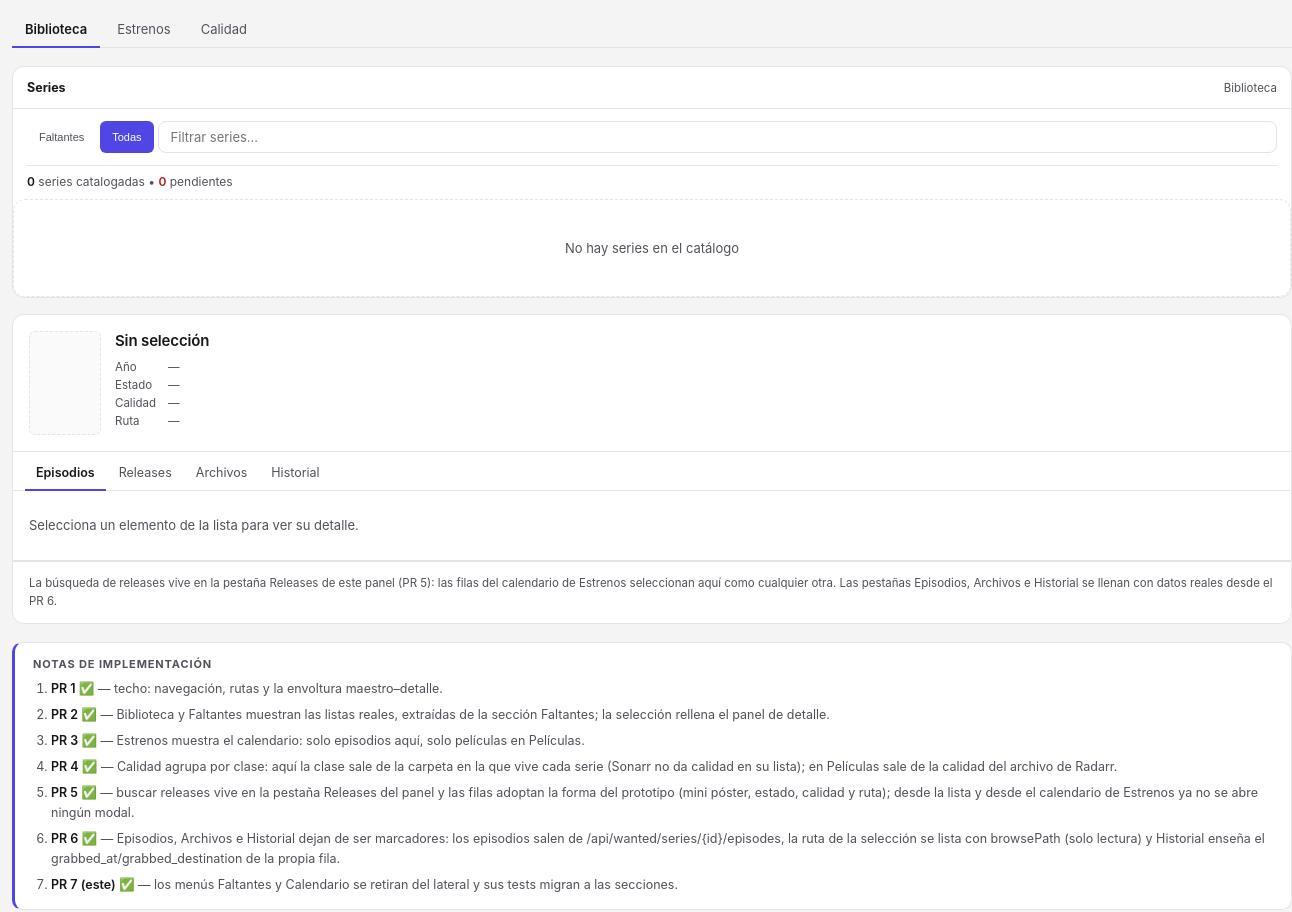
Test: Series › offers the sub-view tabs and switches the visible content
Expected: the text "No hay series en el catálogo" is shown, [13, 199, 1291, 297]
Click the tab "Estrenos" at (144, 30), box [104, 12, 184, 48]
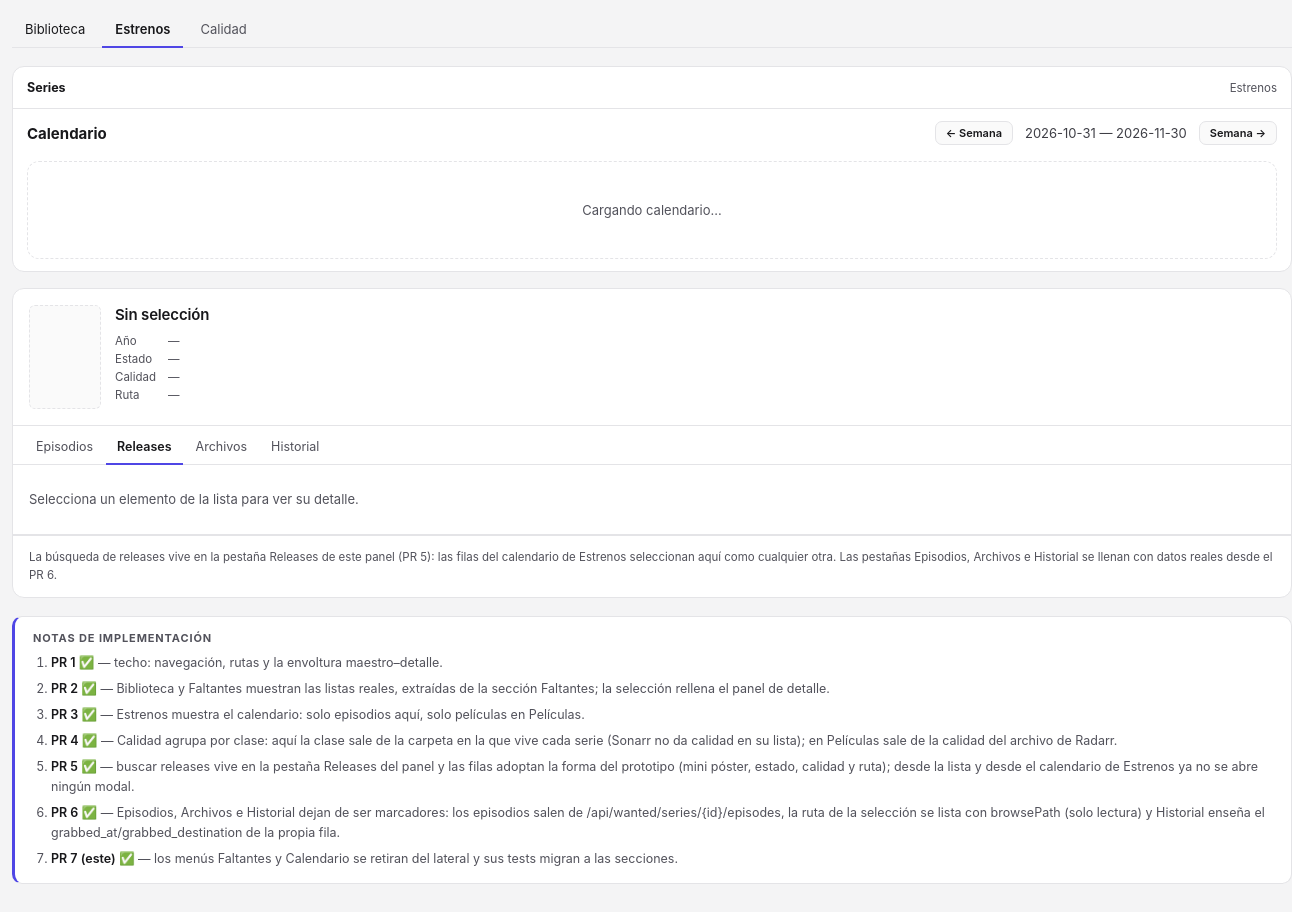
Expected: the element named "Panel de detalle" is shown, [12, 288, 1291, 598]
Expected: the heading "Calendario" is shown, [27, 124, 107, 142]
Expected: the text "No hay series en el catálogo" is gone
Click the tab "Calidad" at (224, 30), box [188, 12, 260, 48]
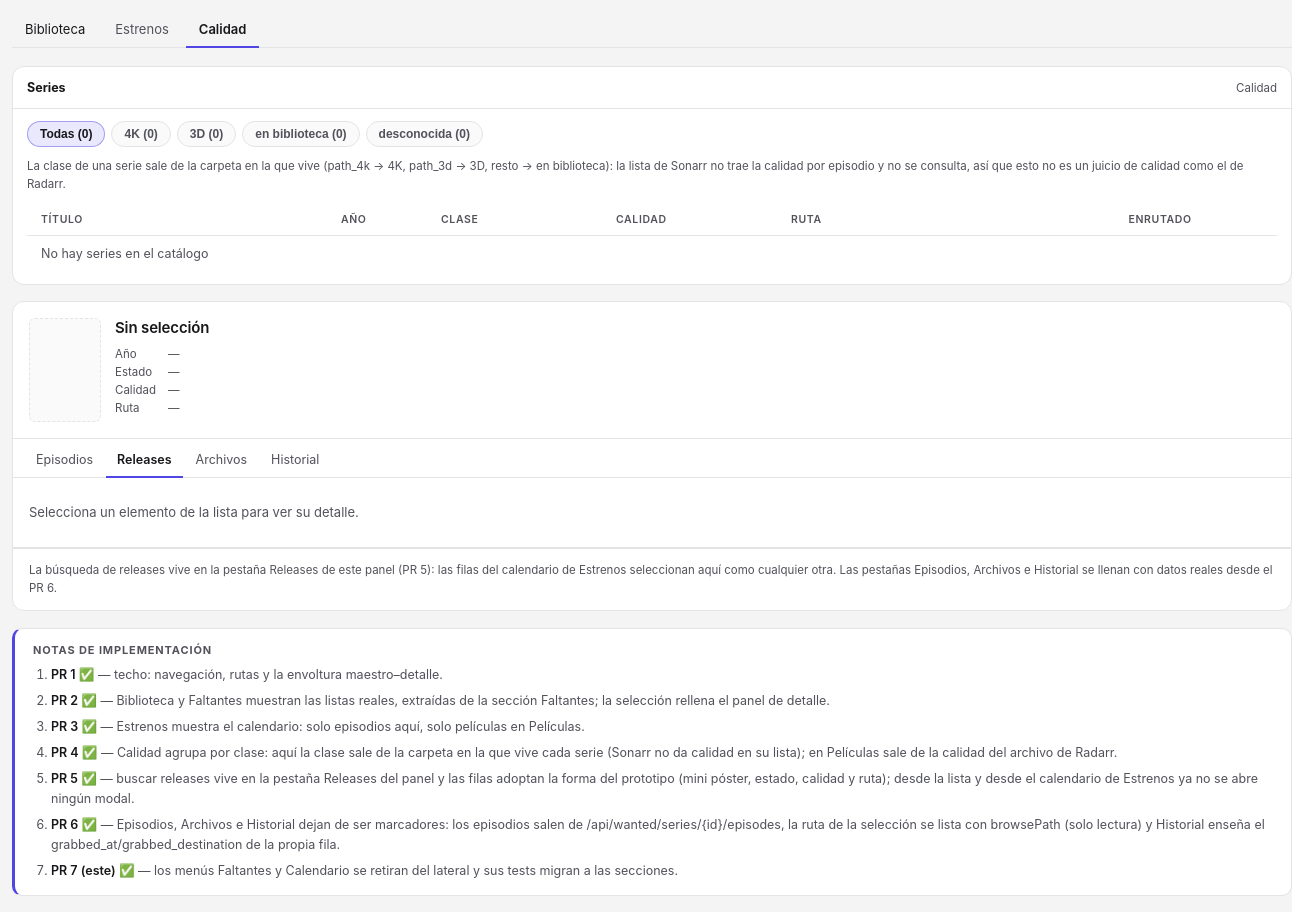
Expected: the element named "Filtrar por clase" is shown, [27, 121, 483, 147]
